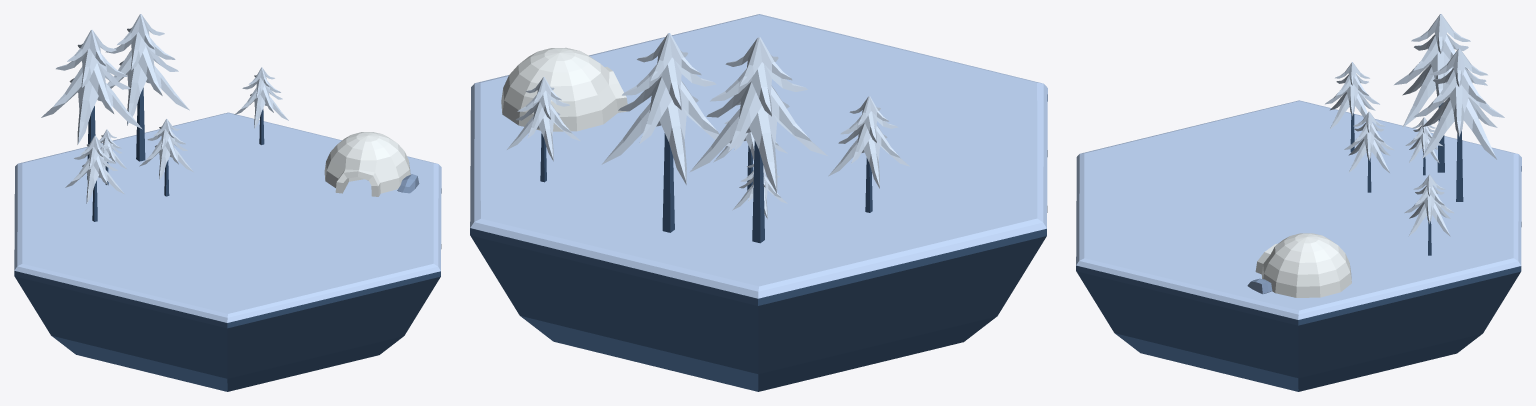
The model's file is Asset_Biome_Snow.fbx.
The picture shows the model from 3 angles, left to right: view 1: azimuth 30°, elevation 25°; view 2: azimuth 150°, elevation 25°; view 3: azimuth 270°, elevation 25°; orthographic projection. The views are drawn at different scales.
Parts seen in each view (by area): view 1: Asset_Tile_Snow, PolySurface_Igloo_01, PolySurface_TreeSnow_06, PolySurface_TreeSnow_01, PolySurface_TreeSnow_04, PolySurface_TreeSnow_03, PolySurface_TreeSnow_02, PolySurface_TreeSnow_05; view 2: Asset_Tile_Snow, PolySurface_TreeSnow_06, PolySurface_TreeSnow_01, PolySurface_Igloo_01, PolySurface_TreeSnow_04, PolySurface_TreeSnow_02, PolySurface_TreeSnow_05, PolySurface_TreeSnow_03; view 3: Asset_Tile_Snow, PolySurface_Igloo_01, PolySurface_TreeSnow_01, PolySurface_TreeSnow_06, PolySurface_TreeSnow_04, PolySurface_TreeSnow_03, PolySurface_TreeSnow_02, PolySurface_TreeSnow_05.
Boxes of the visible parts, bbox=[...] form: Asset_Tile_Snow: bbox=[14, 112, 441, 391]; PolySurface_Igloo_01: bbox=[324, 132, 410, 196]; PolySurface_TreeSnow_06: bbox=[41, 30, 142, 179]; PolySurface_TreeSnow_01: bbox=[105, 14, 189, 161]; PolySurface_TreeSnow_04: bbox=[65, 135, 124, 221]; PolySurface_TreeSnow_03: bbox=[139, 119, 193, 196]; PolySurface_TreeSnow_02: bbox=[234, 67, 288, 144]; PolySurface_TreeSnow_05: bbox=[99, 129, 127, 184]; Asset_Tile_Snow: bbox=[470, 14, 1047, 391]; PolySurface_TreeSnow_06: bbox=[689, 37, 827, 243]; PolySurface_TreeSnow_01: bbox=[601, 33, 735, 232]; PolySurface_Igloo_01: bbox=[501, 47, 628, 131]; PolySurface_TreeSnow_04: bbox=[828, 96, 909, 212]; PolySurface_TreeSnow_02: bbox=[507, 77, 580, 182]; PolySurface_TreeSnow_05: bbox=[732, 164, 787, 218]; PolySurface_TreeSnow_03: bbox=[713, 101, 787, 190]; Asset_Tile_Snow: bbox=[1076, 100, 1521, 391]; PolySurface_Igloo_01: bbox=[1255, 233, 1351, 297]; PolySurface_TreeSnow_01: bbox=[1413, 48, 1504, 201]; PolySurface_TreeSnow_06: bbox=[1394, 14, 1487, 172]; PolySurface_TreeSnow_04: bbox=[1325, 62, 1379, 152]; PolySurface_TreeSnow_03: bbox=[1344, 111, 1394, 192]; PolySurface_TreeSnow_02: bbox=[1404, 174, 1454, 255]; PolySurface_TreeSnow_05: bbox=[1405, 117, 1442, 175].
Bounding box in the file's own units: 436 × 258 × 378.
